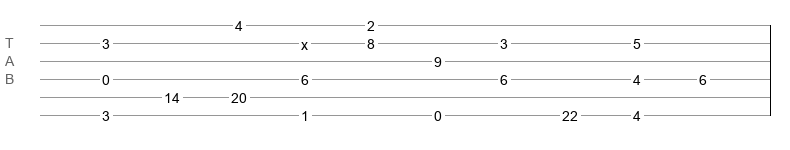0: (102, 72, 110, 82), (434, 108, 442, 118)
1: (301, 108, 309, 118)
14: (164, 90, 180, 100)
2: (367, 18, 375, 28)
20: (231, 90, 247, 100)
22: (562, 108, 578, 118)
3: (102, 36, 110, 46), (102, 108, 110, 118), (500, 36, 508, 46)
4: (235, 18, 243, 28), (633, 72, 641, 82), (633, 108, 641, 118)
5: (633, 36, 641, 46)
6: (301, 72, 309, 82), (500, 72, 508, 82), (699, 72, 707, 82)
8: (367, 36, 375, 46)
9: (434, 54, 442, 64)
x: (301, 37, 308, 45)
